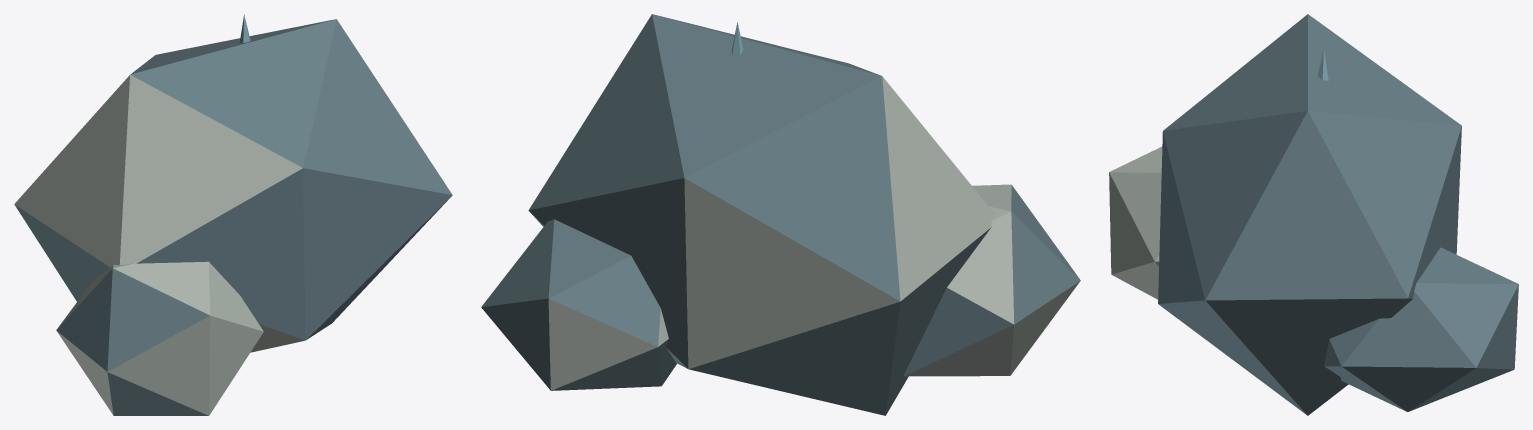
Rendered from rock_deposit.obj.
3 views of the same model, side by side, from view 1: azimuth 30°, elevation 25°; view 2: azimuth 150°, elevation 25°; view 3: azimuth 270°, elevation 25° (orthographic). The views are drawn at different scales.
Parts seen in each view (by area): view 1: RockDeposit; view 2: RockDeposit; view 3: RockDeposit.
Part boxes in pixels (<box>): RockDeposit: <box>14,14,452,415</box>; RockDeposit: <box>481,14,1080,415</box>; RockDeposit: <box>1109,14,1518,415</box>.
Bounding box in the file's own units: 2.21 × 1.84 × 2.05.
